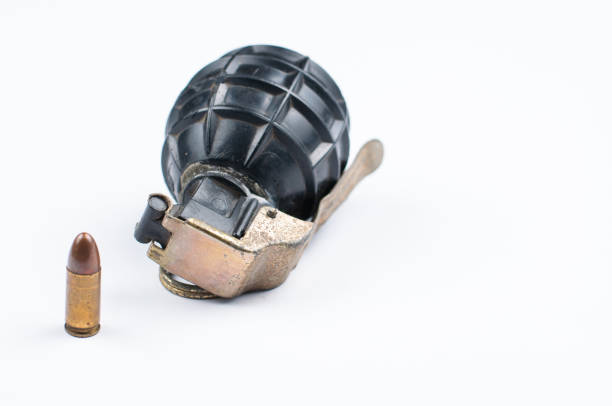e1: (133, 43, 382, 299)
